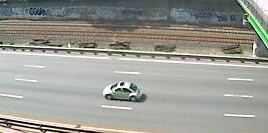car: (100, 78, 145, 104)
